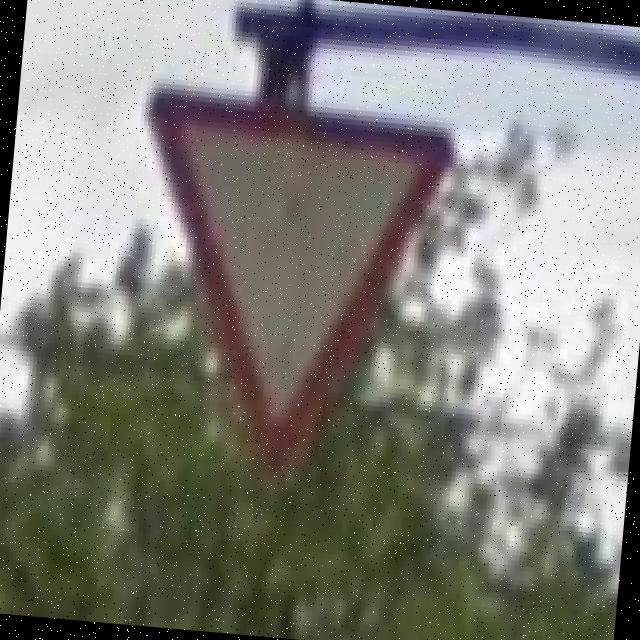Ustap pierwszenstwa: (118, 87, 456, 493)
